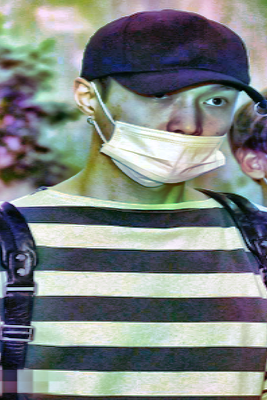mask_weared_incorrect: (95, 86, 236, 184)
